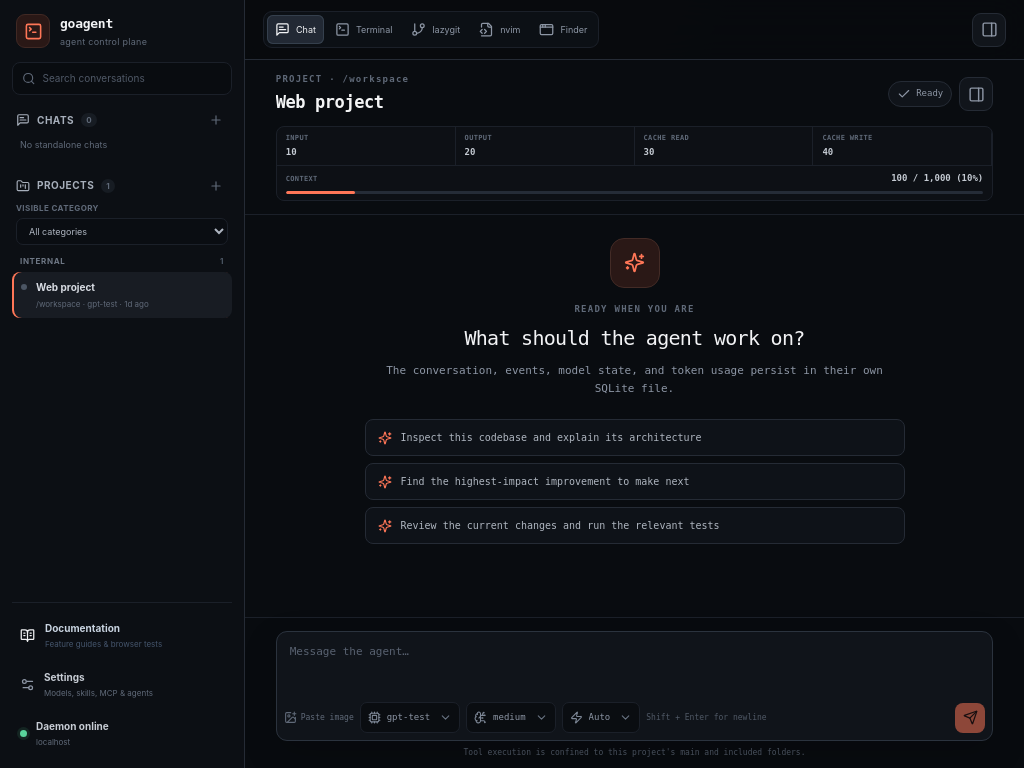
Test case: capability commands › renders command-declared errors without hiding their output
(page scrolled)
Expected: the text box labelled "Message the agent" is shown, top-left (277, 632), bottom-right (992, 697)
Click the 1st button named "Open conversation details" at (989, 30), box top-left (972, 12), bottom-right (1006, 46)
(page scrolled)
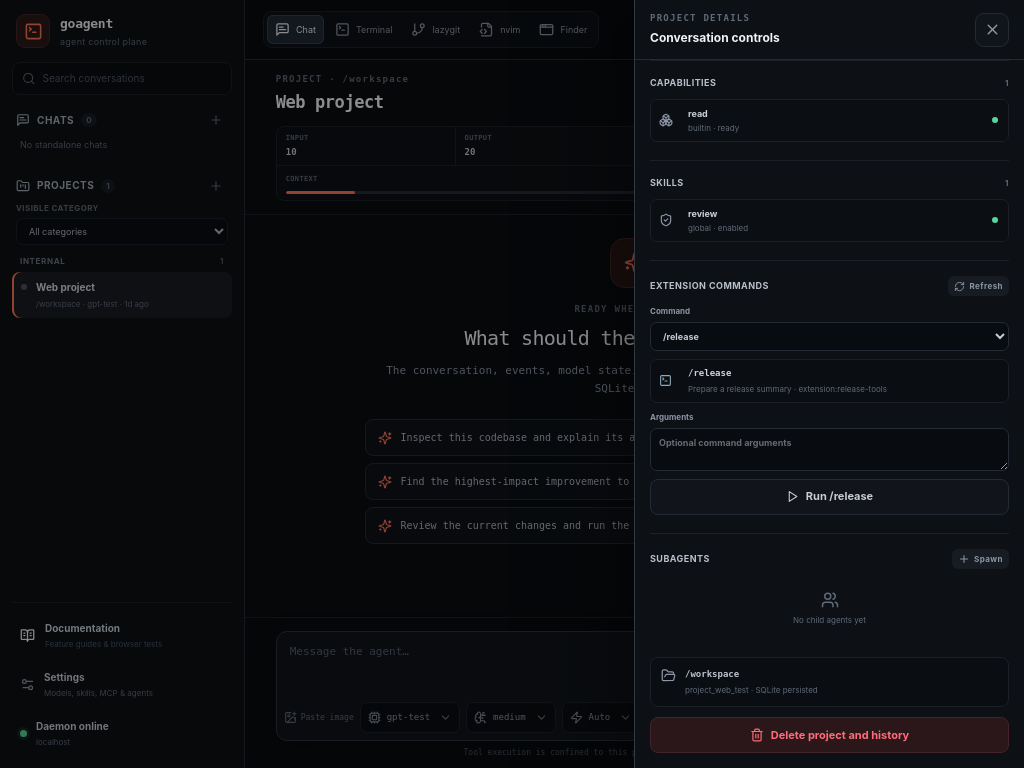
Click the button "Run /release" at (830, 497), box top-left (650, 479), bottom-right (1009, 515)
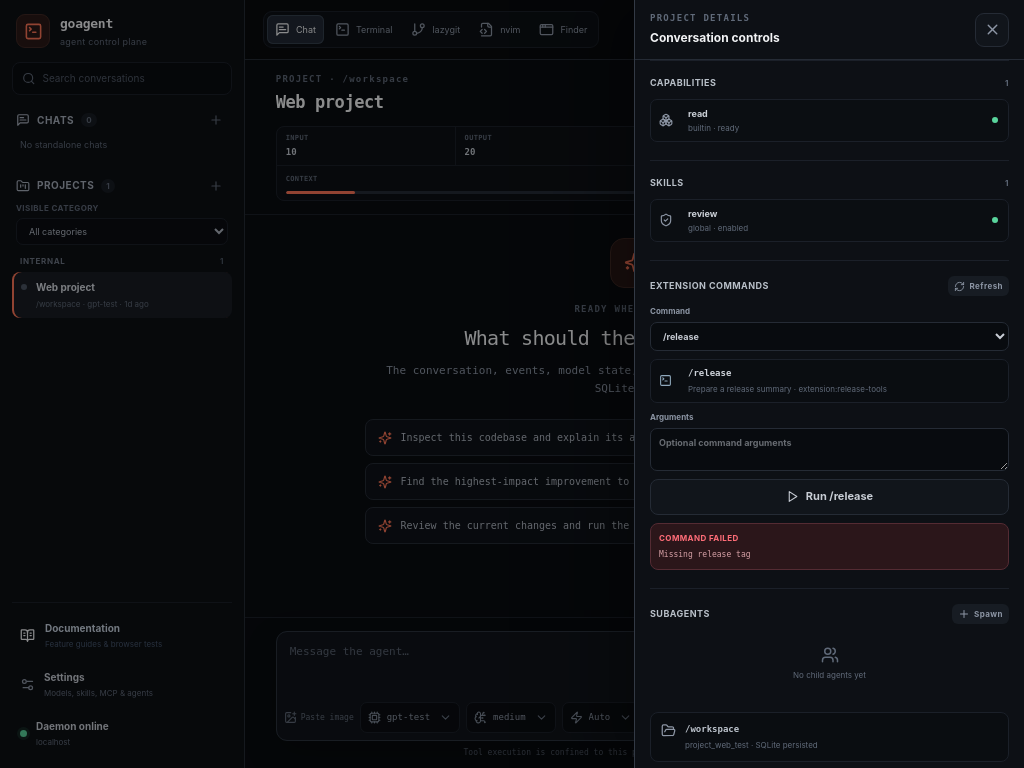
Expected: the text "Command failed" is shown, top-left (659, 533), bottom-right (739, 543)
Expected: the text "Missing release tag" is shown, top-left (659, 550), bottom-right (750, 559)
